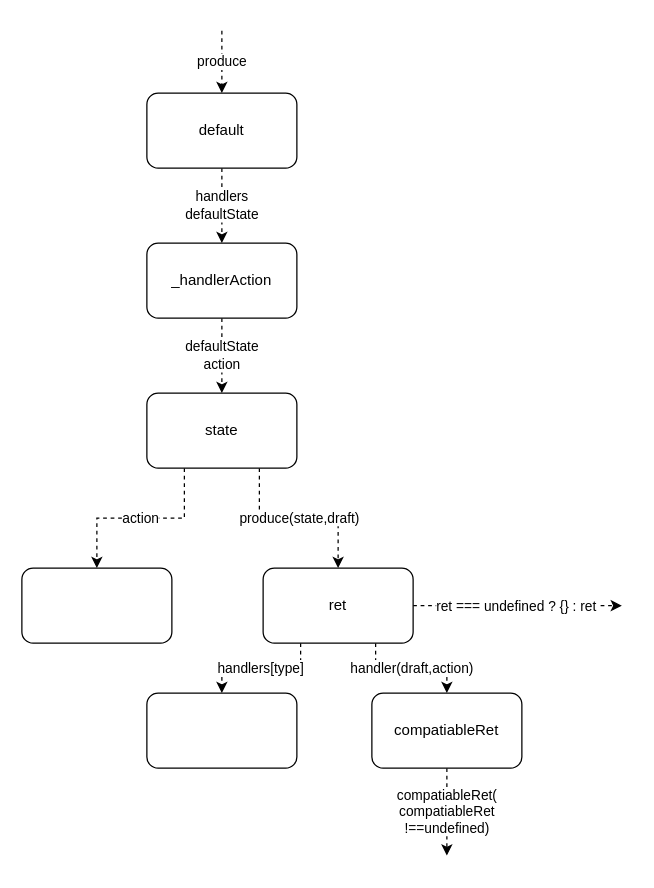
Image size: 654x888. Some labels were removed from this diagram. The centre of each missing label's shape, as x and y in pixels:
handler: the point at 221,730
type: the point at 96,605
